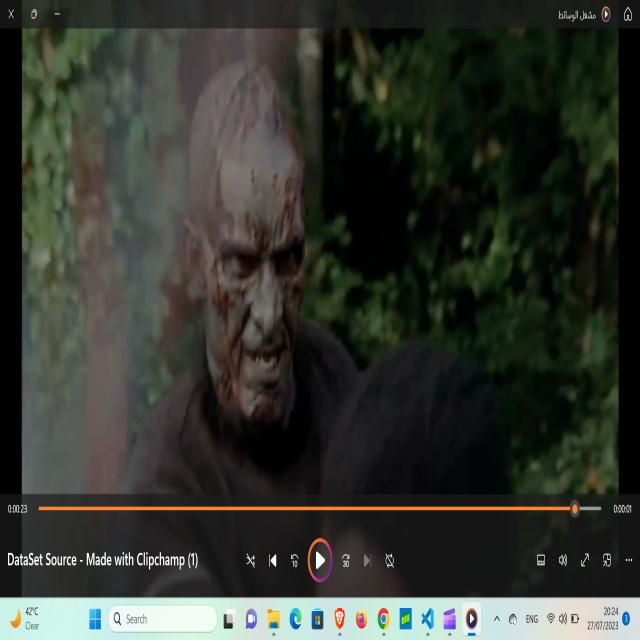Zombie: (180, 68, 314, 423)
